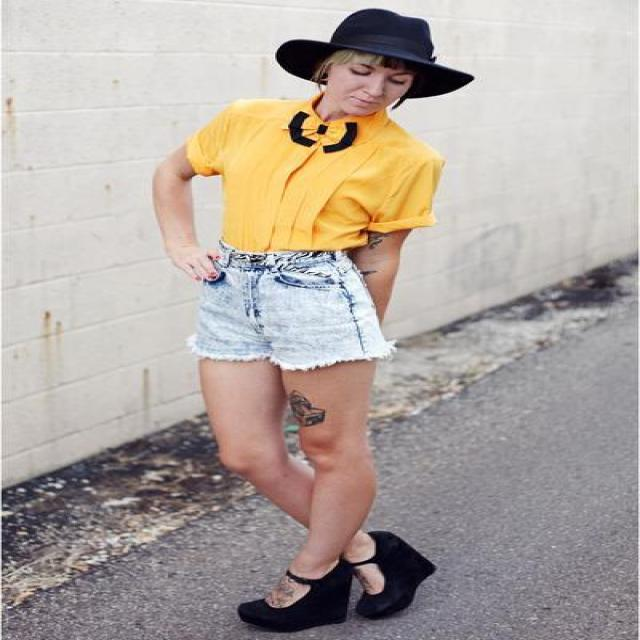hat: (275, 9, 472, 99)
shirt: (184, 100, 443, 252)
shoe: (237, 531, 435, 632)
shorts: (189, 250, 376, 369)
